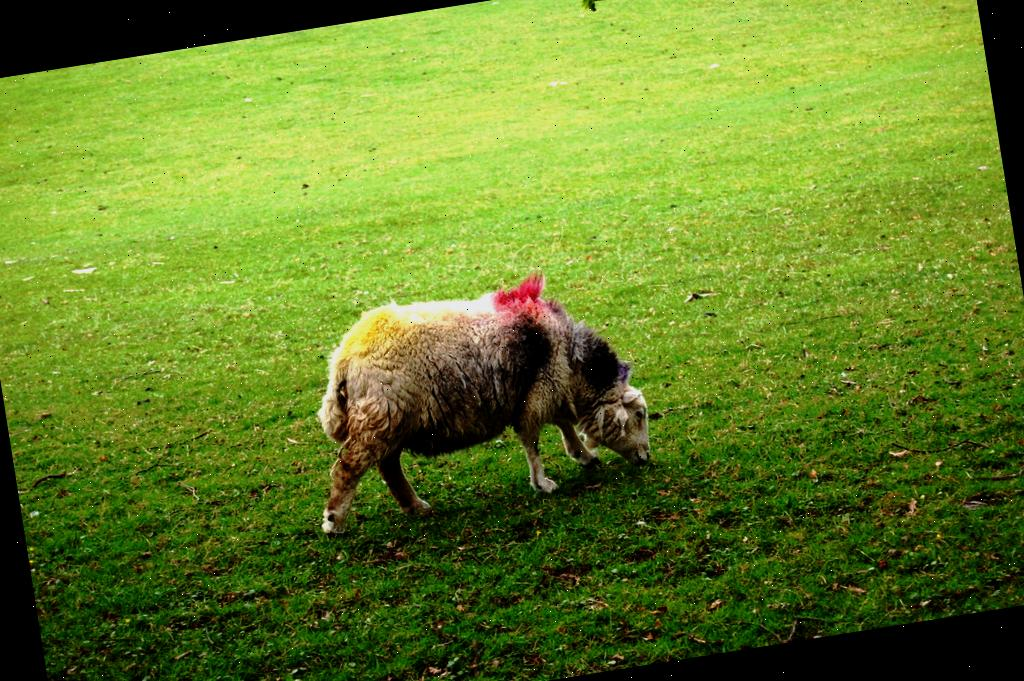Sheep: (286, 260, 658, 538)
